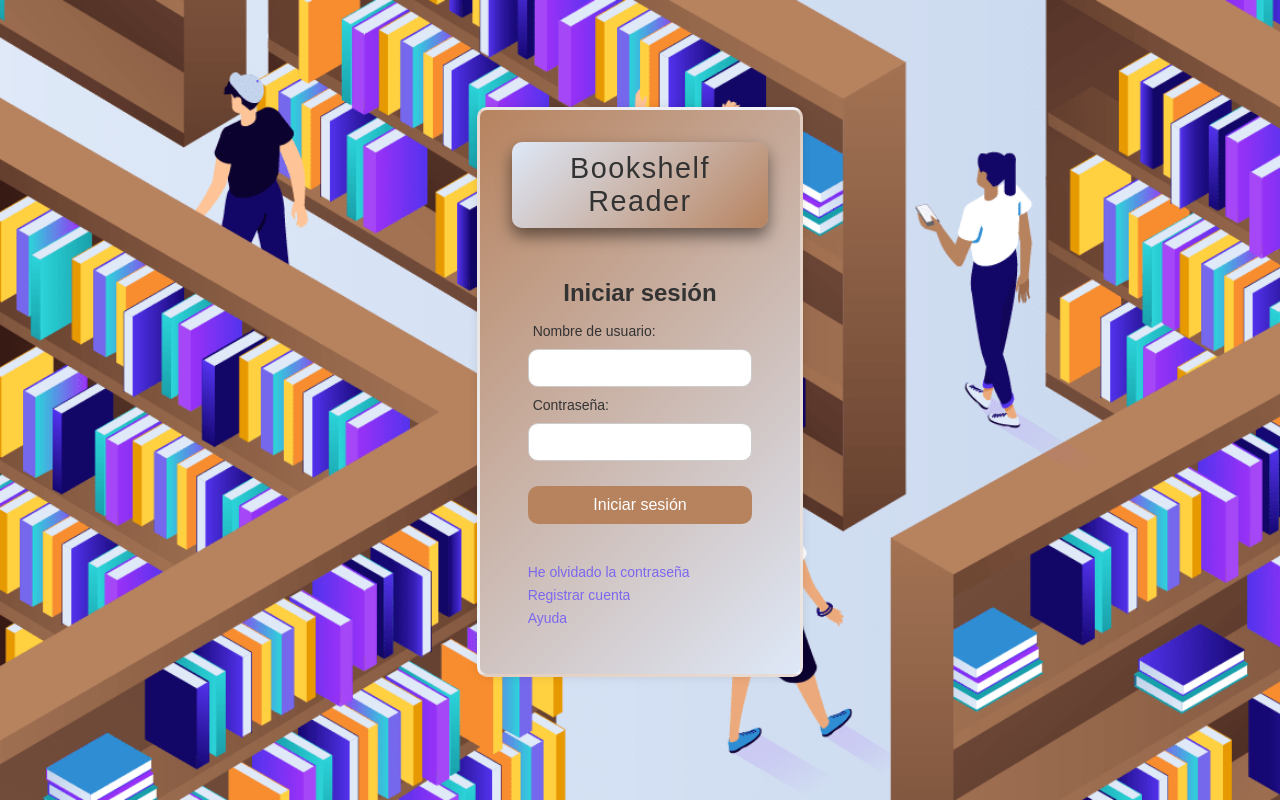
Test: Login Component › Comprobar que muestra el modal de recuperación de contraseña cuando se hace clic en 'He olvidado la contraseña'
The width and height of the screenshot is (1280, 800).
Click the link "He olvidado la contraseña". click: (609, 572)
box: top-left (528, 564), bottom-right (690, 580)
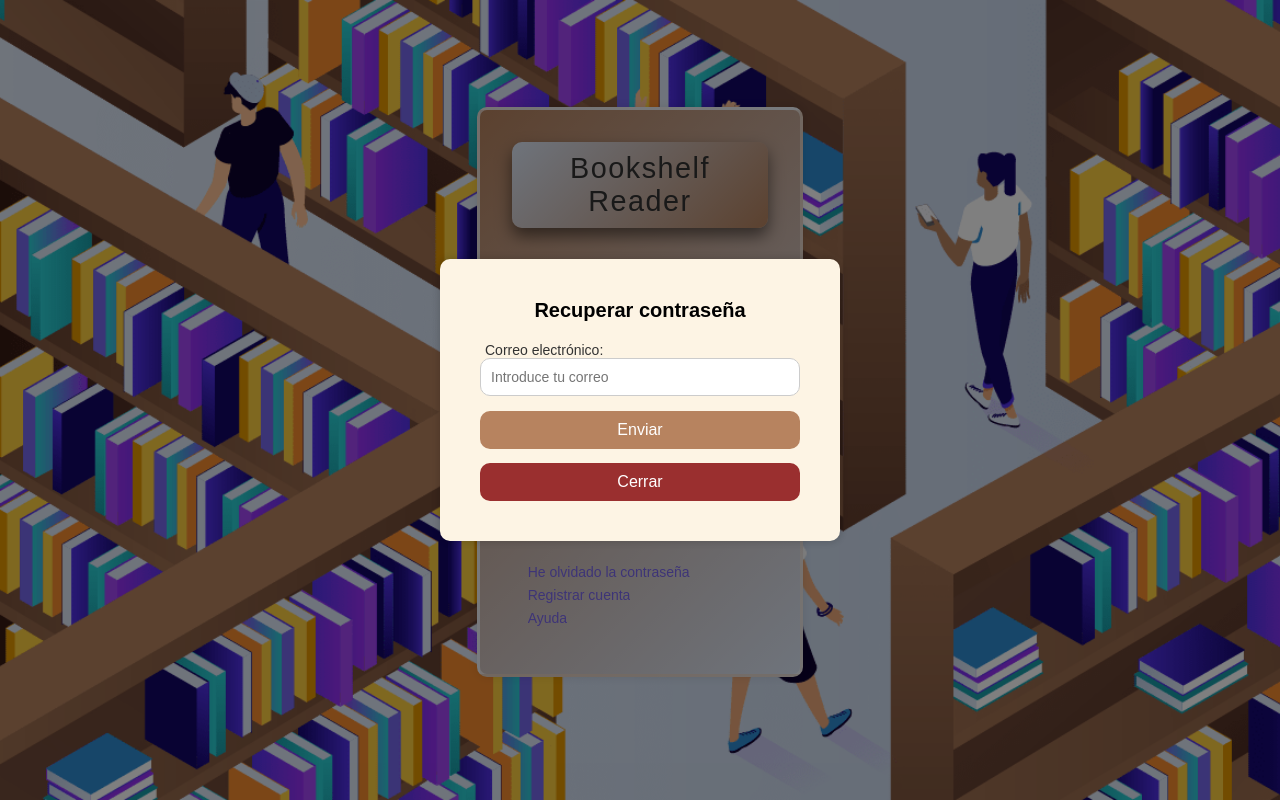
Now the heading "Recuperar contraseña" is shown, box top-left (534, 299), bottom-right (746, 321)
